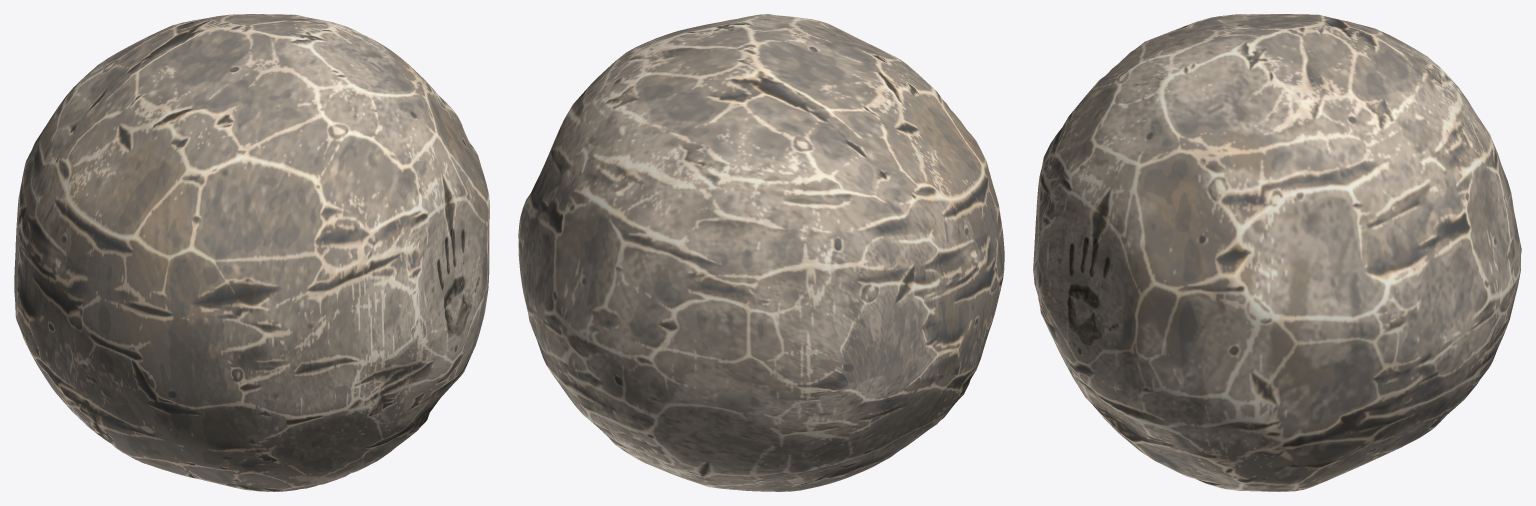
Rendered from free_stone_sphere.glb.
3 views of the same model, side by side, from view 1: azimuth 30°, elevation 25°; view 2: azimuth 150°, elevation 25°; view 3: azimuth 270°, elevation 25° (orthographic).
Parts seen in each view (by area): view 1: Object_2; view 2: Object_2; view 3: Object_2.
Part boxes in pixels (x1=…): Object_2: x1=14, y1=14, x2=489, y2=491; Object_2: x1=518, y1=14, x2=1004, y2=491; Object_2: x1=1033, y1=14, x2=1521, y2=491.
Size of the model in its own units: 1.99 by 1.97 by 1.99.
1 material, 1 textured.
